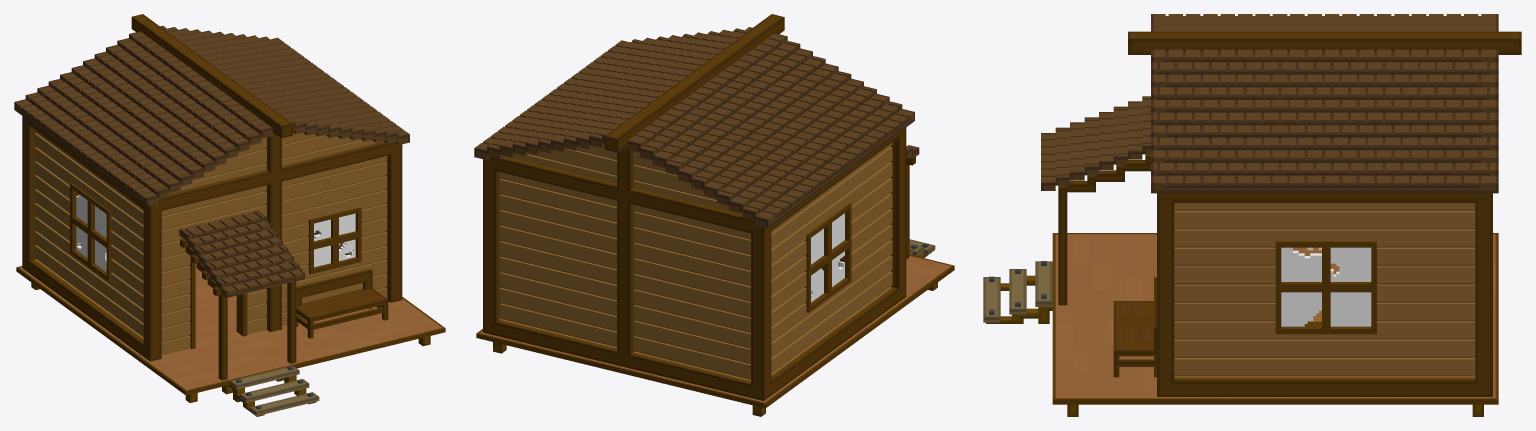
Rendered from Hut.fbx.
3 views of the same model, side by side, from view 1: azimuth 30°, elevation 25°; view 2: azimuth 150°, elevation 25°; view 3: azimuth 270°, elevation 25° (orthographic). The views are drawn at different scales.
Visible parts, largest first — view 1: Hut; view 2: Hut; view 3: Hut.
Boxes of the visible parts, x1=… form: Hut: x1=14, y1=14, x2=445, y2=416; Hut: x1=474, y1=14, x2=954, y2=416; Hut: x1=983, y1=14, x2=1521, y2=416.
Size of the model in its own units: 4.14 by 5.58 by 3.48.
Materials: 1 (1 with a texture image).
